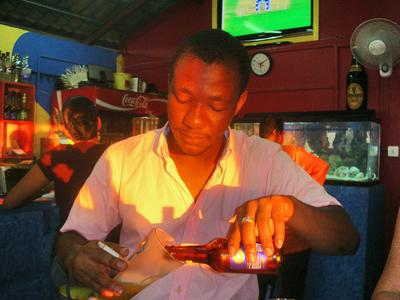person: (54, 28, 362, 300)
